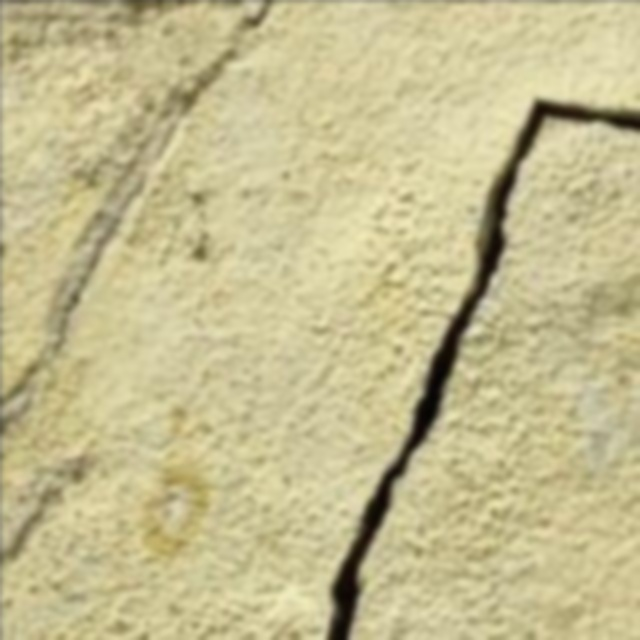SurfaceCrack: (302, 60, 640, 640)
